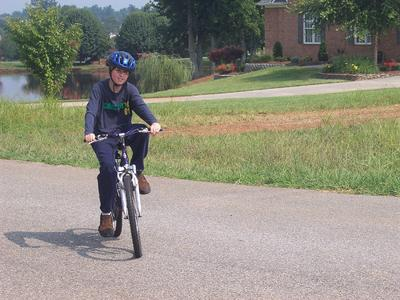person: (85, 51, 162, 239)
